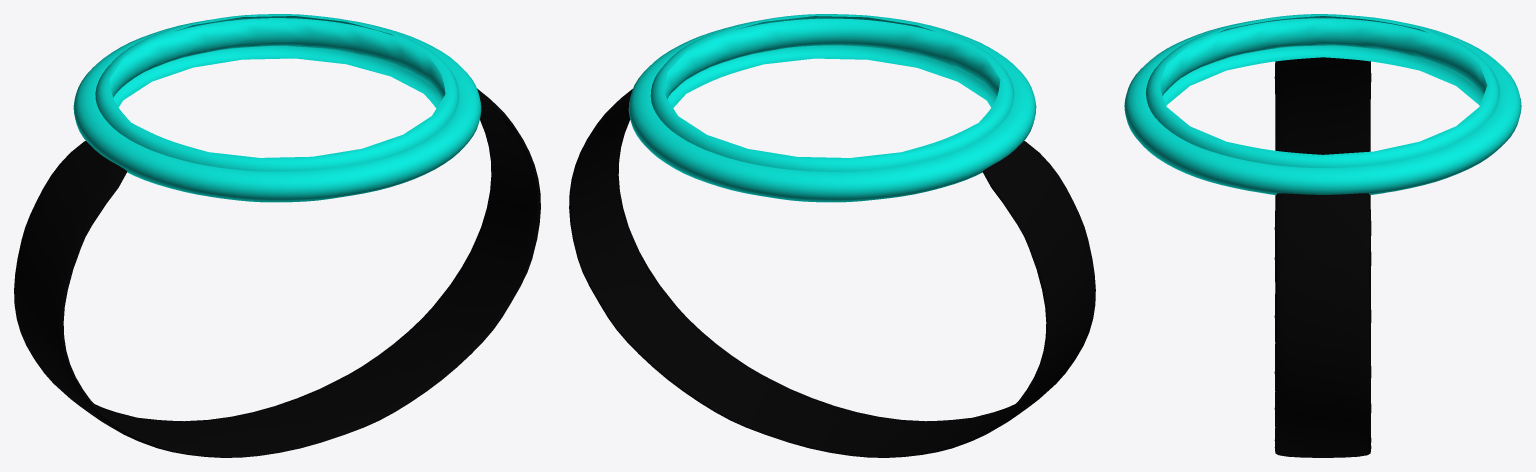
File: Watch.fbx
The picture shows the model from 3 angles, left to right: view 1: azimuth 30°, elevation 25°; view 2: azimuth 150°, elevation 25°; view 3: azimuth 270°, elevation 25°; orthographic projection. The views are drawn at different scales.
Visible parts, largest first — view 1: pCylinder5, pCylinder3; view 2: pCylinder5, pCylinder3; view 3: pCylinder3, pCylinder5.
Part boxes in pixels (bbox=[...]): pCylinder5: bbox=[14, 88, 540, 457]; pCylinder3: bbox=[73, 14, 481, 202]; pCylinder5: bbox=[569, 89, 1095, 457]; pCylinder3: bbox=[628, 14, 1036, 202]; pCylinder3: bbox=[1124, 14, 1521, 194]; pCylinder5: bbox=[1274, 57, 1371, 457].
Size of the model in its own units: 5.41 by 3.68 by 3.91.
